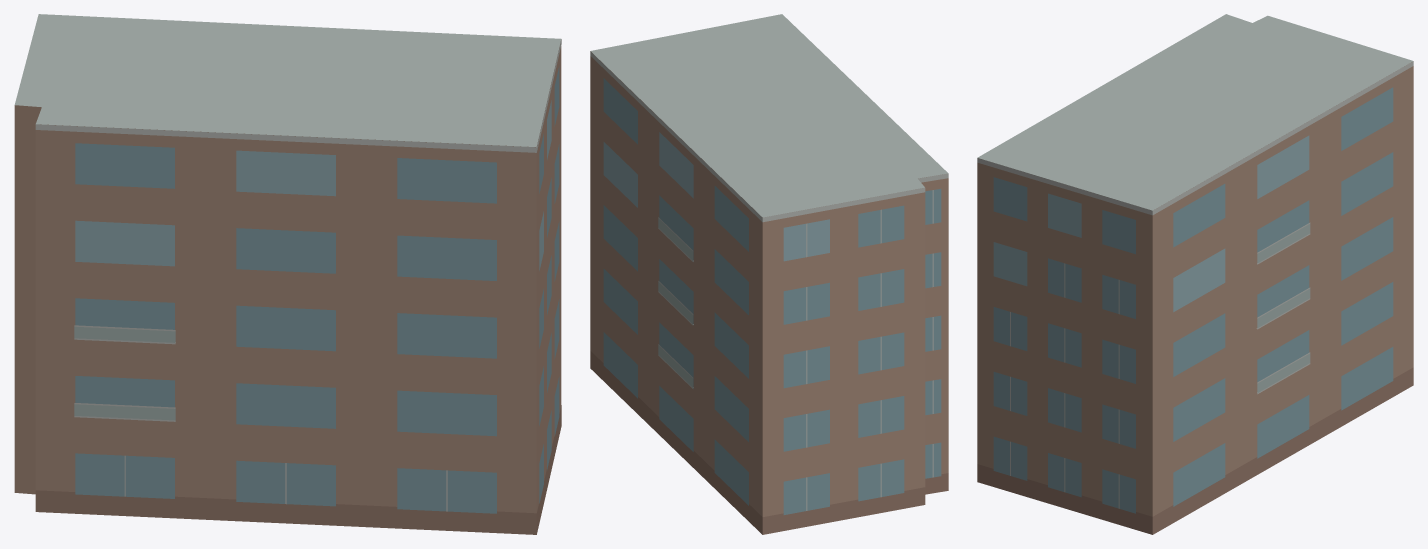
File: survey-upis-32909423.glb
3 renders of one model, left to right at view 1: azimuth 30°, elevation 25°; view 2: azimuth 150°, elevation 25°; view 3: azimuth 270°, elevation 25°, orthographic. The views are drawn at different scales.
Visible parts, largest first — view 1: survey-upis-32909423.tmp; view 2: survey-upis-32909423.tmp; view 3: survey-upis-32909423.tmp.
Part boxes in pixels (x1,y1,x2,y2): survey-upis-32909423.tmp: [14, 14, 561, 534]; survey-upis-32909423.tmp: [590, 14, 948, 534]; survey-upis-32909423.tmp: [977, 14, 1413, 534].
Size of the model in its own units: 21.47 by 16.5 by 20.14.
